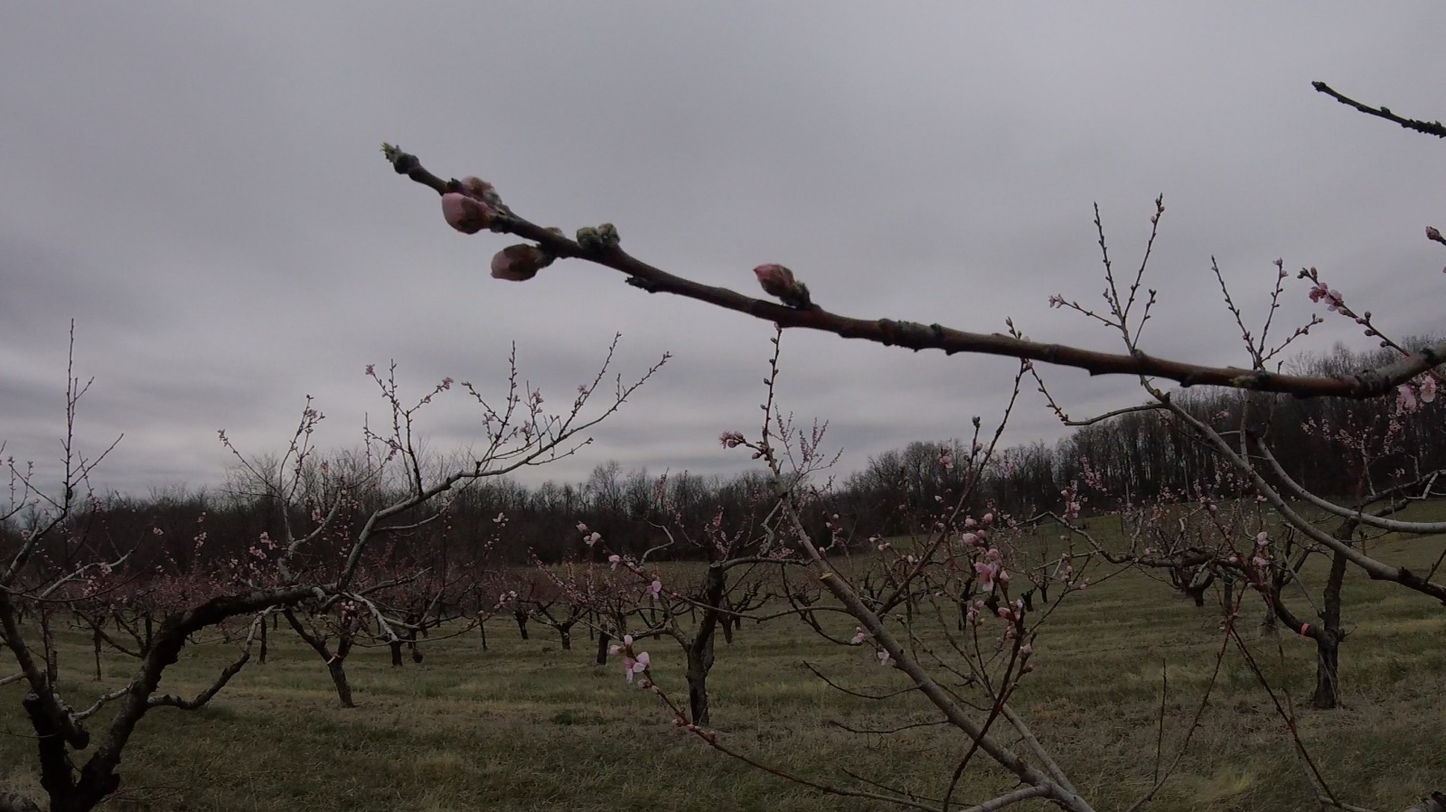flower: (609, 645, 650, 684), (441, 192, 478, 230), (1310, 283, 1347, 314), (492, 247, 522, 282), (973, 563, 999, 592), (633, 581, 662, 607), (1396, 384, 1417, 416), (1420, 376, 1440, 403), (609, 555, 632, 574), (962, 530, 984, 546), (584, 533, 603, 548), (624, 635, 633, 645), (633, 557, 636, 561)
